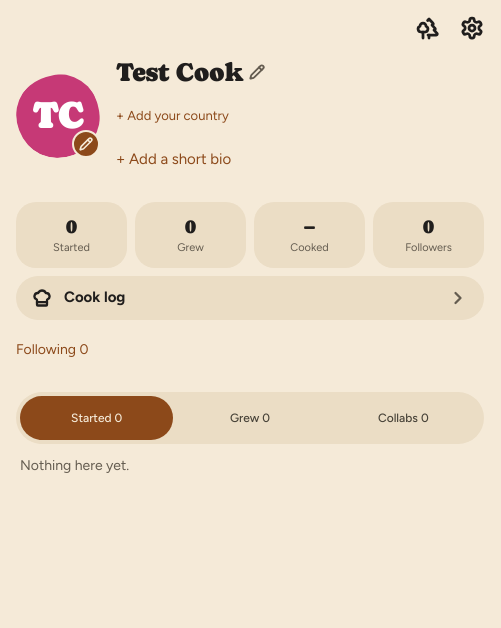
Test: OwnProfile Organic layout (RL-095) › toggles the following list from the link under the tiles
The width and height of the screenshot is (501, 628).
Click the button "Following 0" at (52, 350), box x1=16 y1=328 x2=88 y2=372
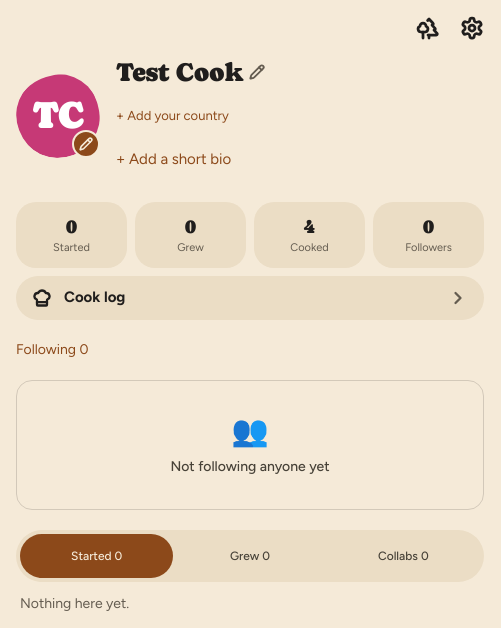
Expected: the text "Not following anyone yet" is shown, x1=170 y1=457 x2=330 y2=477
Click the button "Following 0" at (52, 350), box x1=16 y1=328 x2=88 y2=372
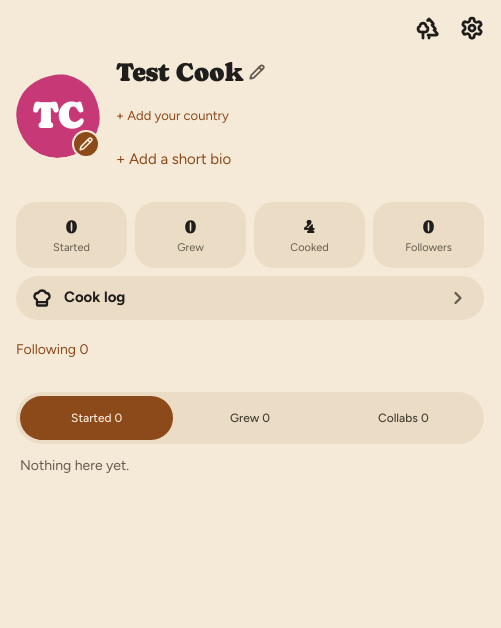
Expected: the text "Not following anyone yet" is gone
